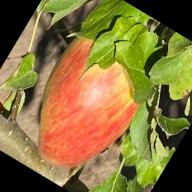Apples: (11, 31, 157, 187)
